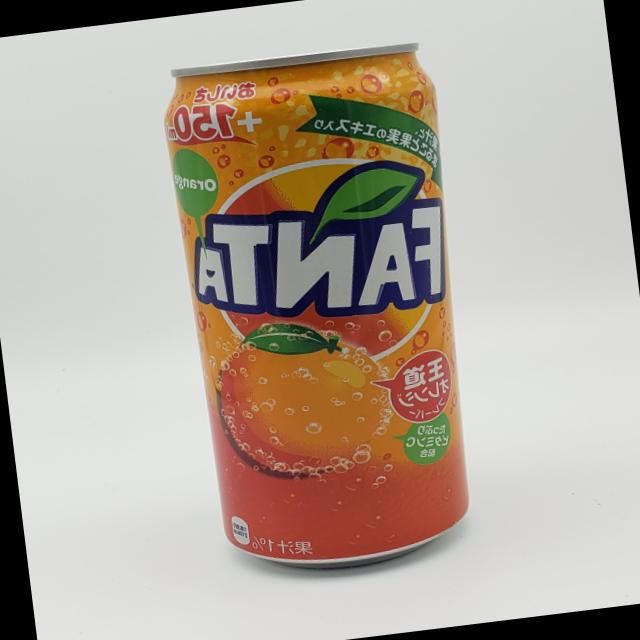fanta: (136, 42, 504, 584)
